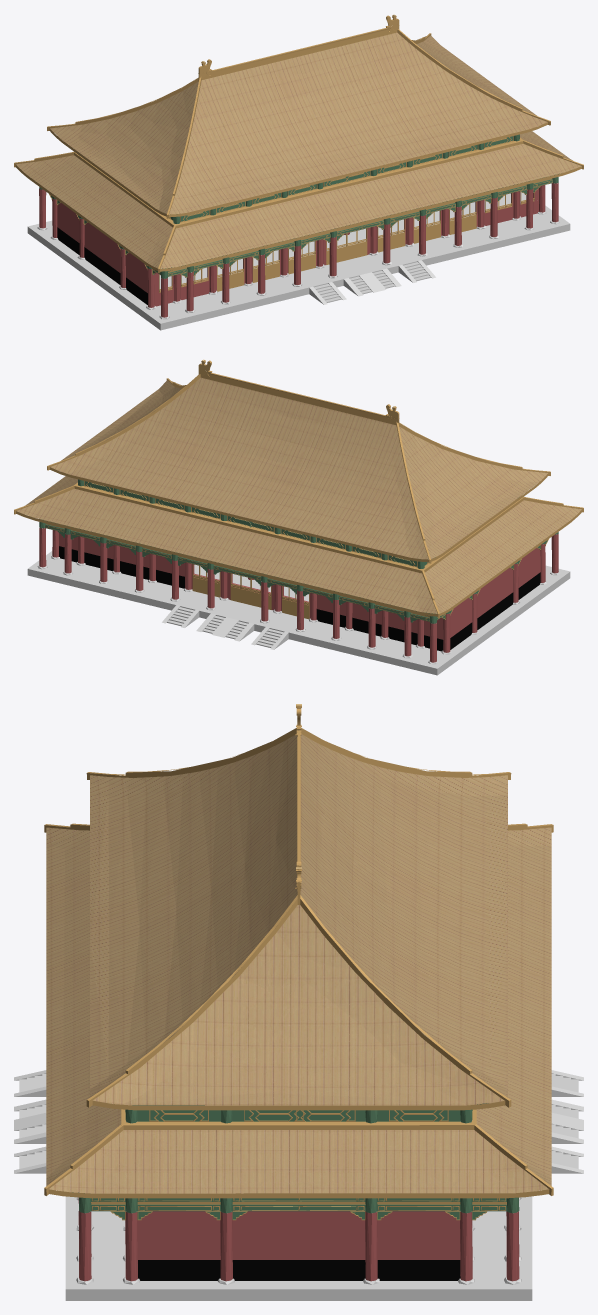
3 views of the same model, one above another, from view 1: azimuth 30°, elevation 25°; view 2: azimuth 150°, elevation 25°; view 3: azimuth 270°, elevation 25° (orthographic). The views are drawn at different scales.
Parts seen in each view (by area): view 1: taihe; view 2: taihe; view 3: taihe.
Boxes of the visible parts, x1,y1,x2,y2 form: taihe: (14,14,583,330); taihe: (14,359,583,675); taihe: (14,704,583,1300).
Size of what is drawn, in the model's own units: 80.42 by 35.03 by 53.11.
